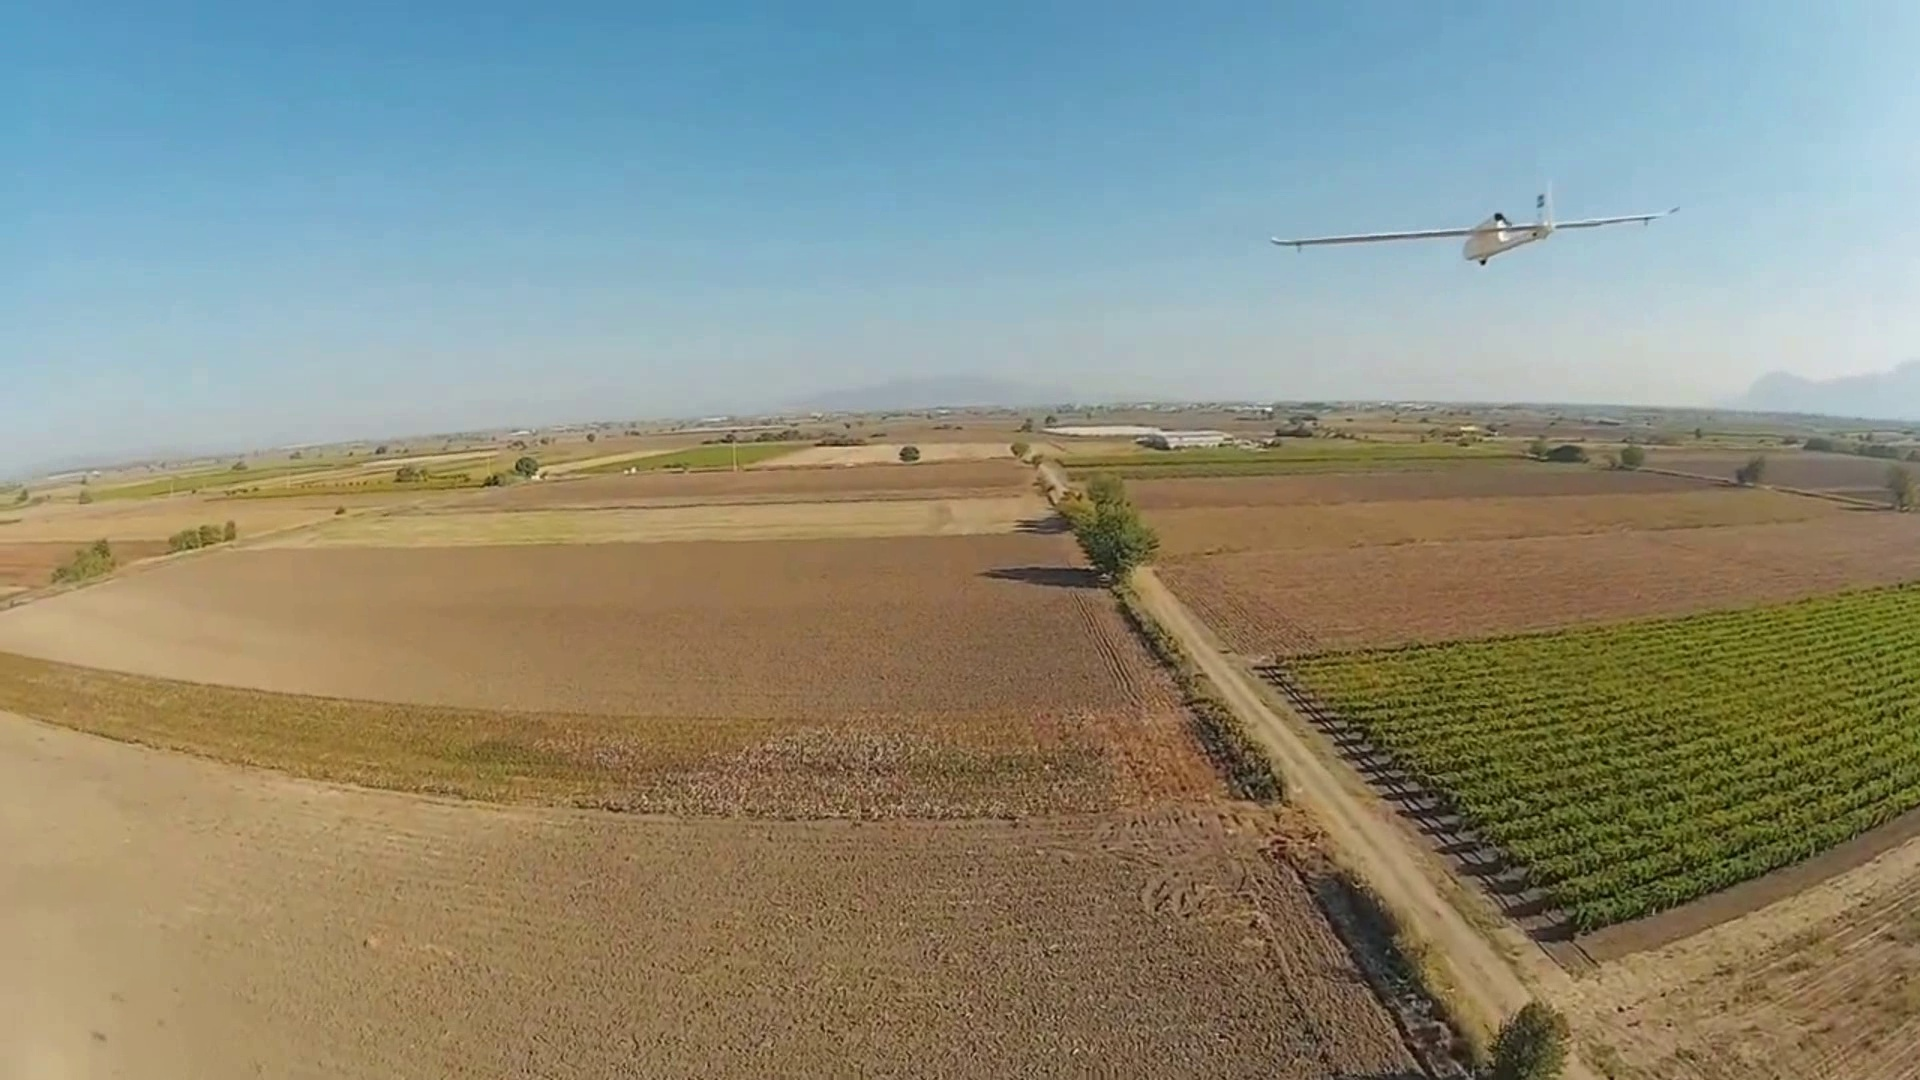airplane: (1270, 189, 1679, 268)
